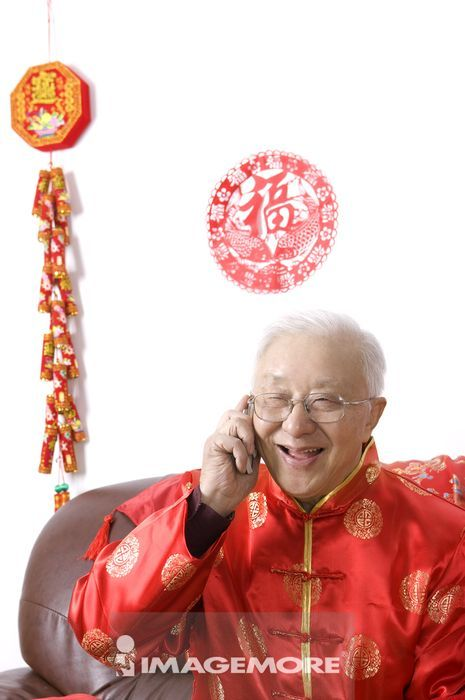talk: (196, 370, 354, 515)
